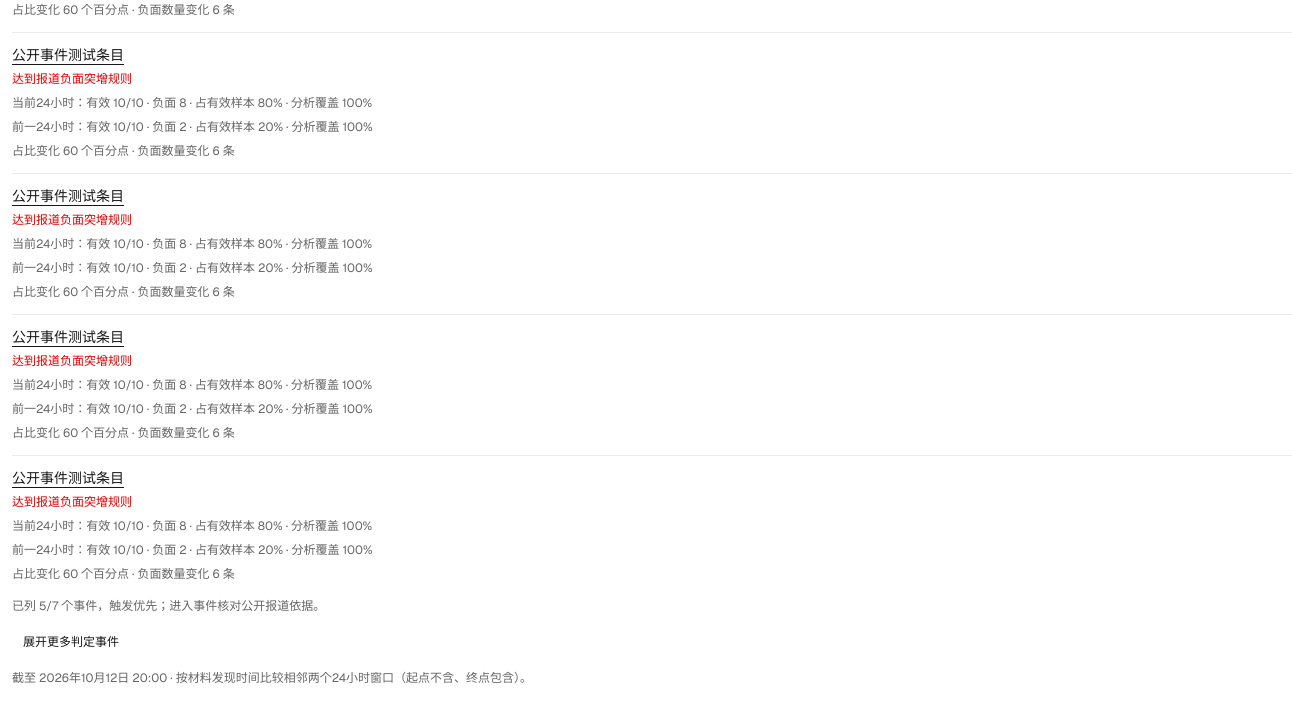
Test case: expands the bounded server list through a keyboard-operable button
(page scrolled)
Click the button "展开更多判定事件": coordinates (71, 642) [12, 628, 130, 656]
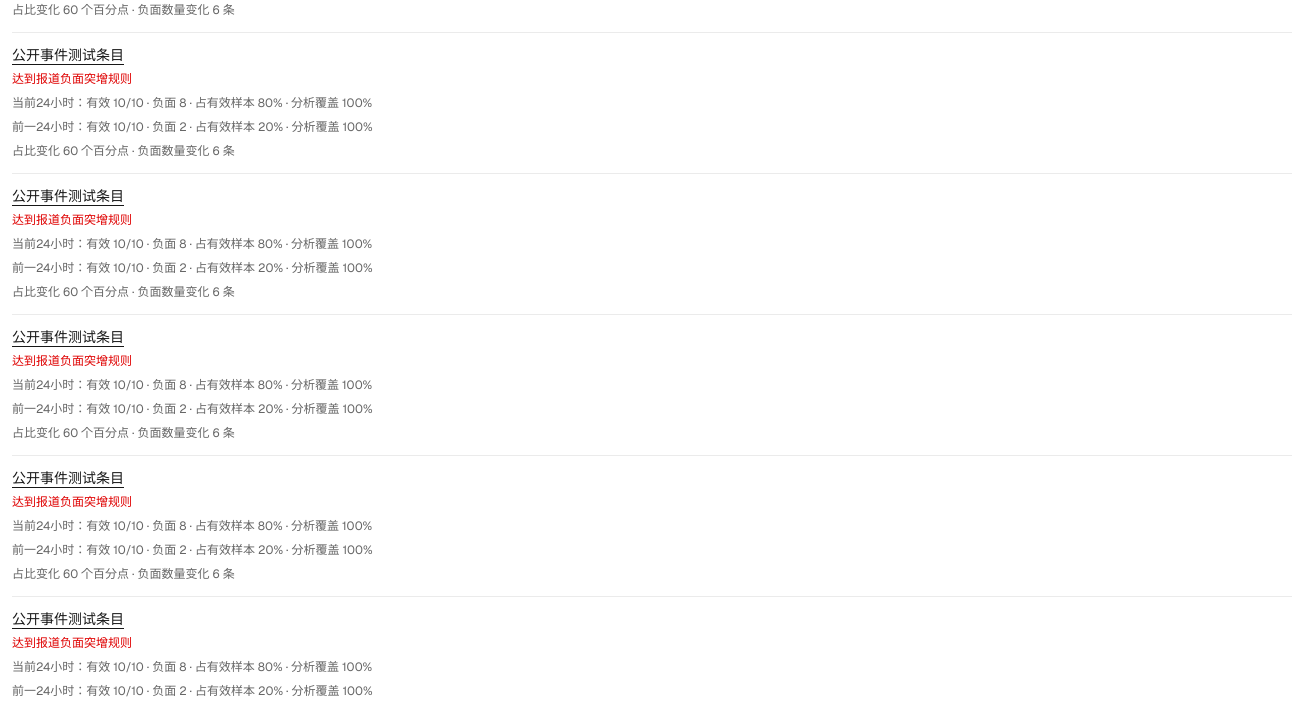
Check: the number of links is 7
